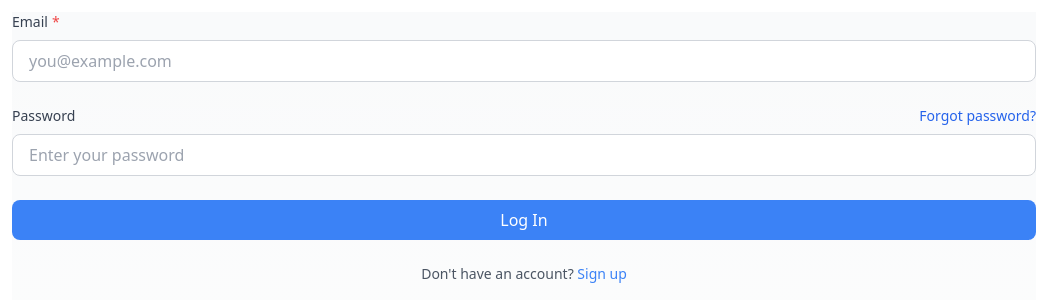
Test case: LoginForm › shows loading state during submission
Type "test@example.com" into the field labelled "Email*" at (524, 61), box [12,40,1036,82]
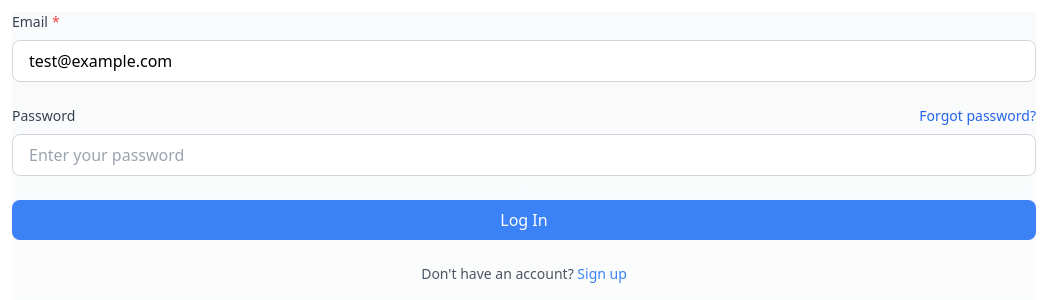
Type "validPassword123" into the password field labelled "Password" at (524, 155), box [12,134,1036,176]
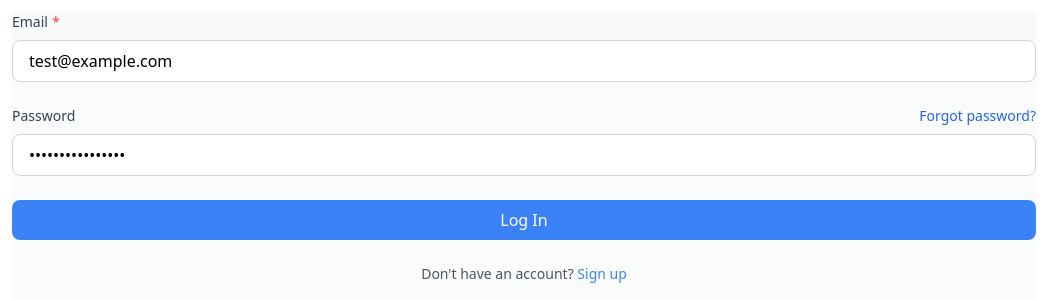
Click the button "Log In" at (524, 220), box [12,200,1036,240]
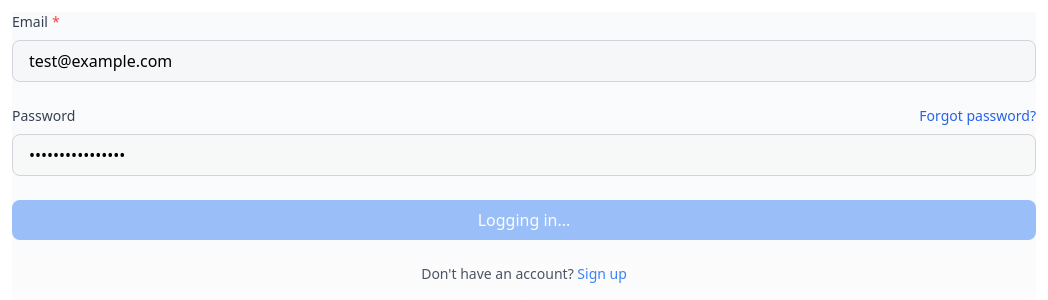
Check: the button named "log in" is disabled, box [12,200,1036,240]
